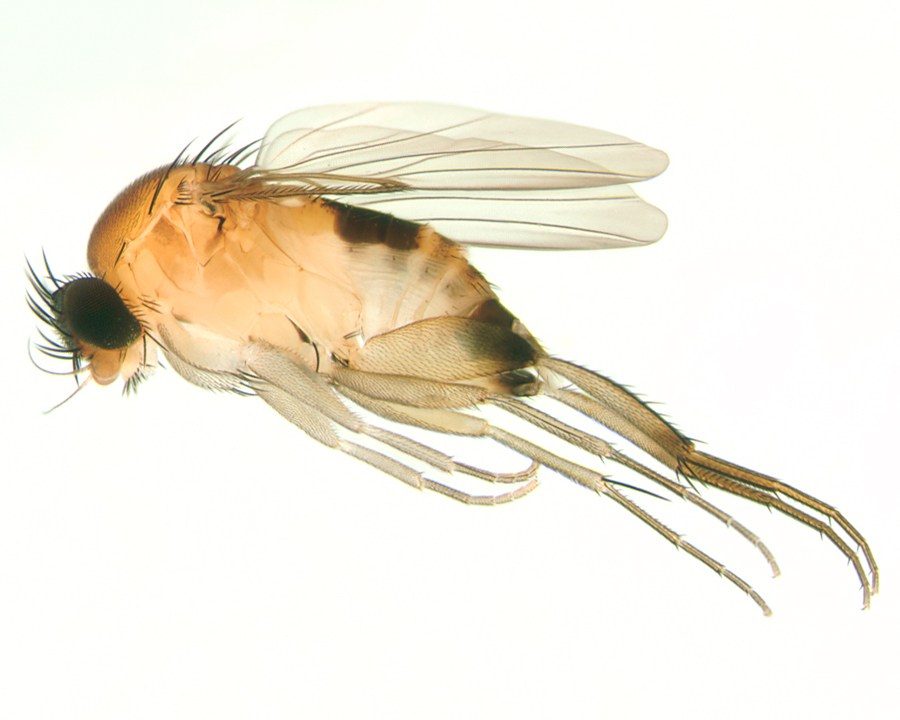phorid fly: (15, 73, 881, 675)
